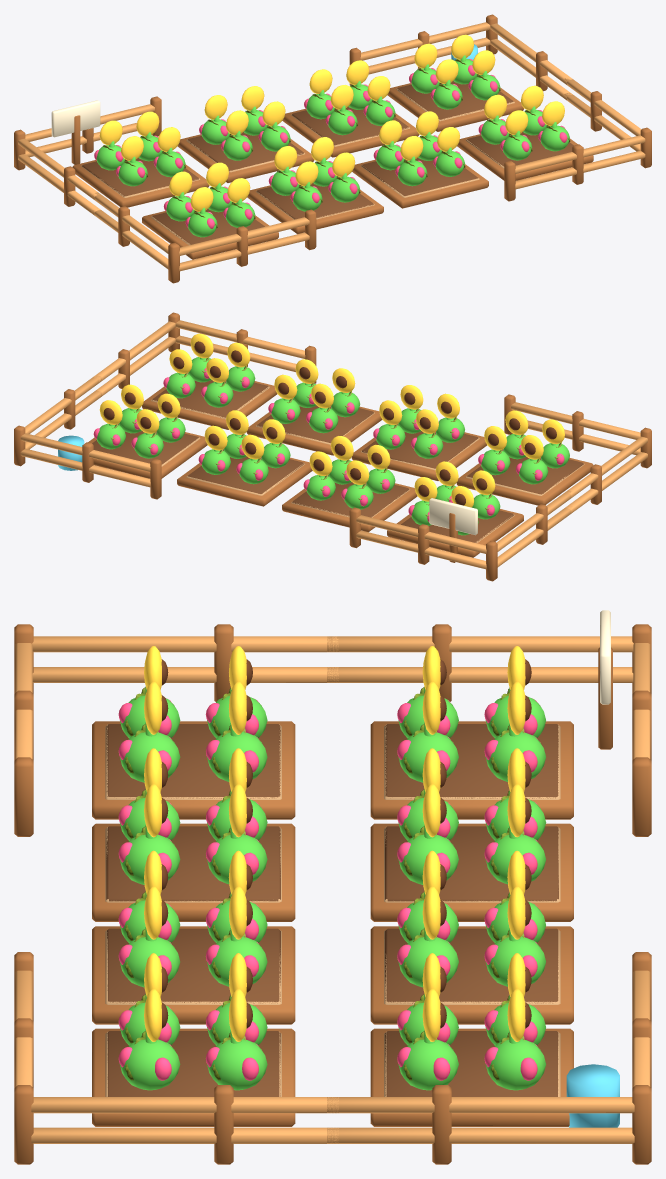
The model's file is farm-garden-v4.glb.
The picture shows the model from 3 angles, top to bottom: view 1: azimuth 30°, elevation 25°; view 2: azimuth 150°, elevation 25°; view 3: azimuth 270°, elevation 25°; orthographic projection. The views are drawn at different scales.
Visible parts, largest first — view 1: P6_Stage3_Berry, P5_Stage3_Berry, P7_Stage3_Berry, P8_Stage3_Berry, P2_Stage3_Berry, P4_Stage3_Berry, P3_Stage3_Berry, P1_Stage3_Berry, P3_Stage3_Sunflower, P8_Stage3_Sunflower, P1_Stage3_Sunflower, P4_Stage3_Sunflower (+44 smaller); view 2: P1_Stage3_Berry, P2_Stage3_Berry, P8_Stage3_Berry, P7_Stage3_Berry, P5_Stage3_Berry, P3_Stage3_Berry, P6_Stage3_Berry, P6_Stage3_Sunflower, P5_Stage3_Sunflower, P2_Stage3_Sunflower, P7_Stage3_Sunflower, P8_Stage3_Sunflower (+45 smaller); view 3: P1_Stage3_Berry, P5_Stage3_Berry, P7_SoilWet, P3_SoilWet, P2_SoilWet, P6_SoilWet, P8_SoilWet, P4_SoilWet, P2_Stage3_Berry, P3_Stage3_Berry, P4_Stage3_Berry, P6_Stage3_Berry (+47 smaller).
Boxes of the visible parts, <box> form: P6_Stage3_Berry: <box>373,135,464,186</box>; P5_Stage3_Berry: <box>478,109,569,160</box>; P7_Stage3_Berry: <box>268,161,360,211</box>; P8_Stage3_Berry: <box>163,186,255,237</box>; P2_Stage3_Berry: <box>304,84,395,135</box>; P4_Stage3_Berry: <box>94,135,185,186</box>; P3_Stage3_Berry: <box>199,110,290,160</box>; P1_Stage3_Berry: <box>409,58,500,109</box>; P3_Stage3_Sunflower: <box>204,86,285,137</box>; P8_Stage3_Sunflower: <box>169,162,250,213</box>; P1_Stage3_Sunflower: <box>414,34,495,85</box>; P4_Stage3_Sunflower: <box>99,111,180,162</box>; P1_Stage3_Berry: <box>93,408,185,458</box>; P2_Stage3_Berry: <box>198,433,290,484</box>; P8_Stage3_Berry: <box>478,434,569,484</box>; P7_Stage3_Berry: <box>373,408,464,458</box>; P5_Stage3_Berry: <box>163,357,255,407</box>; P3_Stage3_Berry: <box>303,459,395,509</box>; P6_Stage3_Berry: <box>268,382,360,433</box>; P6_Stage3_Sunflower: <box>274,359,355,409</box>; P5_Stage3_Sunflower: <box>169,333,250,383</box>; P2_Stage3_Sunflower: <box>204,410,285,460</box>; P7_Stage3_Sunflower: <box>379,385,459,435</box>; P8_Stage3_Sunflower: <box>484,410,564,460</box>; P1_Stage3_Berry: <box>397,1002,546,1090</box>; P5_Stage3_Berry: <box>118,1002,267,1090</box>; P7_SoilWet: <box>106,826,280,901</box>; P3_SoilWet: <box>385,826,558,901</box>; P2_SoilWet: <box>385,928,558,1003</box>; P6_SoilWet: <box>107,928,280,1003</box>; P8_SoilWet: <box>106,724,280,798</box>; P4_SoilWet: <box>385,724,558,798</box>; P2_Stage3_Berry: <box>397,900,545,987</box>; P3_Stage3_Berry: <box>397,798,546,884</box>; P4_Stage3_Berry: <box>397,695,545,782</box>; P6_Stage3_Berry: <box>118,900,267,987</box>.
Bounding box in the file's own units: 9.16 × 1.05 × 5.26.
12 materials, 1 textured.
